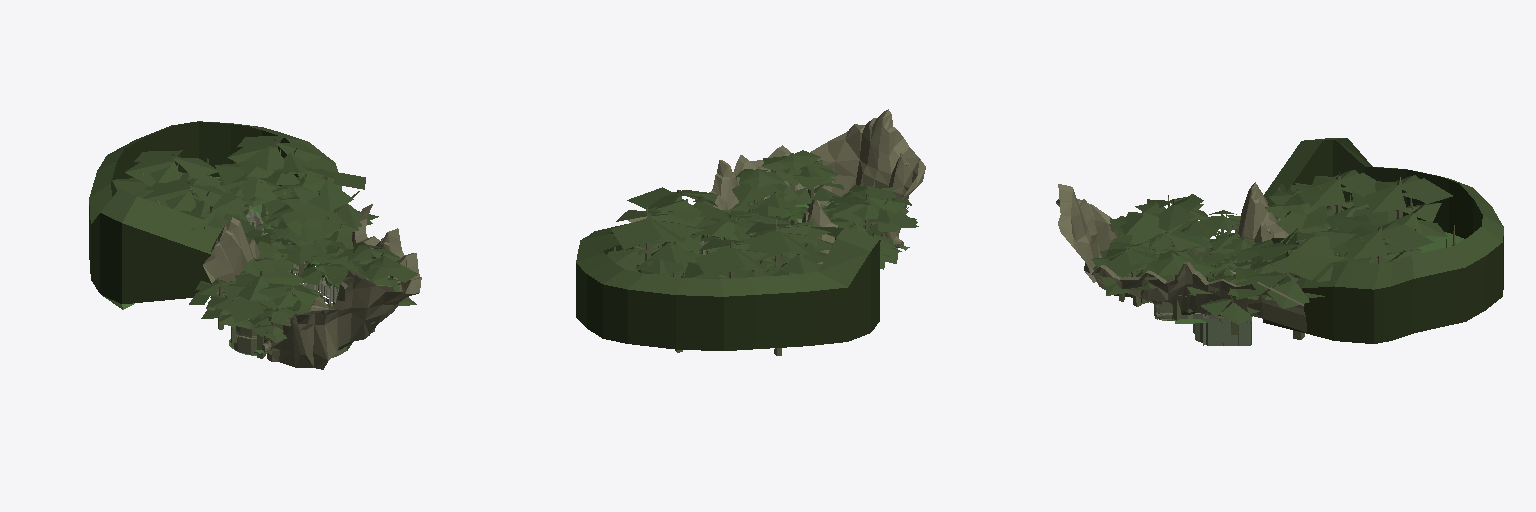
Rendered from sacredgrove.obj.
The picture shows the model from 3 angles: view 1: azimuth 30°, elevation 25°; view 2: azimuth 150°, elevation 25°; view 3: azimuth 270°, elevation 25°; orthographic projection.
Parts seen in each view (by area): view 1: Mesh1_n0b8_1_skpD0E1_1_Model, Mesh2_n1b6_1_skpD0E1_1_Model, Mesh1209_n16b1_1_skpD0E1_1_Model, Mesh3_n1b6_1_skpD0E1_1_Model, Mesh1093_n16b1_1_skpD0E1_1_Model, Mesh1077_n16b1_1_skpD0E1_1_Model, Mesh1171_n16b1_1_skpD0E1_1_Model, Mesh1095_n16b1_1_skpD0E1_1_Model, Mesh1065_n16b1_1_skpD0E1_1_Model, Mesh1086_n16b1_1_skpD0E1_1_Model, Mesh1067_n16b1_1_skpD0E1_1_Model; view 2: Mesh1_n0b8_1_skpD0E1_1_Model, Mesh2_n1b6_1_skpD0E1_1_Model, Mesh1209_n16b1_1_skpD0E1_1_Model, Mesh1079_n16b1_1_skpD0E1_1_Model, Mesh1068_n16b1_1_skpD0E1_1_Model, Mesh1057_n16b1_1_skpD0E1_1_Model, Mesh3_n1b6_1_skpD0E1_1_Model; view 3: Mesh1_n0b8_1_skpD0E1_1_Model, Mesh2_n1b6_1_skpD0E1_1_Model, Mesh1209_n16b1_1_skpD0E1_1_Model, Mesh3_n1b6_1_skpD0E1_1_Model, Mesh346_n9b4_1_skpD0E1_1_Model, Mesh1094_n16b1_1_skpD0E1_1_Model, Mesh1067_n16b1_1_skpD0E1_1_Model, Mesh1078_n16b1_1_skpD0E1_1_Model, Mesh1056_n16b1_1_skpD0E1_1_Model, Mesh1079_n16b1_1_skpD0E1_1_Model, Mesh1068_n16b1_1_skpD0E1_1_Model, Mesh1103_n16b1_1_skpD0E1_1_Model (+3 smaller).
Part boxes in pixels (left/top/right/bottom): Mesh1_n0b8_1_skpD0E1_1_Model: left=89, top=122, right=298, bottom=303; Mesh2_n1b6_1_skpD0E1_1_Model: left=262, top=204, right=421, bottom=369; Mesh1209_n16b1_1_skpD0E1_1_Model: left=89, top=121, right=341, bottom=254; Mesh3_n1b6_1_skpD0E1_1_Model: left=203, top=217, right=259, bottom=314; Mesh1093_n16b1_1_skpD0E1_1_Model: left=307, top=181, right=353, bottom=211; Mesh1077_n16b1_1_skpD0E1_1_Model: left=238, top=177, right=277, bottom=206; Mesh1171_n16b1_1_skpD0E1_1_Model: left=226, top=297, right=263, bottom=322; Mesh1095_n16b1_1_skpD0E1_1_Model: left=303, top=206, right=345, bottom=240; Mesh1065_n16b1_1_skpD0E1_1_Model: left=125, top=161, right=174, bottom=186; Mesh1086_n16b1_1_skpD0E1_1_Model: left=246, top=146, right=284, bottom=170; Mesh1067_n16b1_1_skpD0E1_1_Model: left=174, top=157, right=219, bottom=178; Mesh1_n0b8_1_skpD0E1_1_Model: left=576, top=232, right=879, bottom=350; Mesh2_n1b6_1_skpD0E1_1_Model: left=628, top=109, right=925, bottom=248; Mesh1209_n16b1_1_skpD0E1_1_Model: left=576, top=224, right=879, bottom=296; Mesh1079_n16b1_1_skpD0E1_1_Model: left=611, top=218, right=661, bottom=249; Mesh1068_n16b1_1_skpD0E1_1_Model: left=695, top=247, right=745, bottom=278; Mesh1057_n16b1_1_skpD0E1_1_Model: left=740, top=231, right=790, bottom=258; Mesh3_n1b6_1_skpD0E1_1_Model: left=788, top=200, right=838, bottom=263; Mesh1_n0b8_1_skpD0E1_1_Model: left=1263, top=140, right=1503, bottom=343; Mesh2_n1b6_1_skpD0E1_1_Model: left=1056, top=184, right=1306, bottom=331; Mesh1209_n16b1_1_skpD0E1_1_Model: left=1264, top=138, right=1503, bottom=289; Mesh3_n1b6_1_skpD0E1_1_Model: left=1233, top=182, right=1293, bottom=271; Mesh346_n9b4_1_skpD0E1_1_Model: left=1193, top=318, right=1250, bottom=345; Mesh1094_n16b1_1_skpD0E1_1_Model: left=1277, top=249, right=1332, bottom=280; Mesh1067_n16b1_1_skpD0E1_1_Model: left=1365, top=185, right=1406, bottom=212; Mesh1078_n16b1_1_skpD0E1_1_Model: left=1345, top=231, right=1387, bottom=258; Mesh1056_n16b1_1_skpD0E1_1_Model: left=1304, top=179, right=1345, bottom=206; Mesh1079_n16b1_1_skpD0E1_1_Model: left=1382, top=225, right=1433, bottom=250; Mesh1068_n16b1_1_skpD0E1_1_Model: left=1401, top=178, right=1452, bottom=203; Mesh1103_n16b1_1_skpD0E1_1_Model: left=1296, top=235, right=1335, bottom=258.
Bounding box in the file's own units: 3.03 × 1.52 × 4.56.